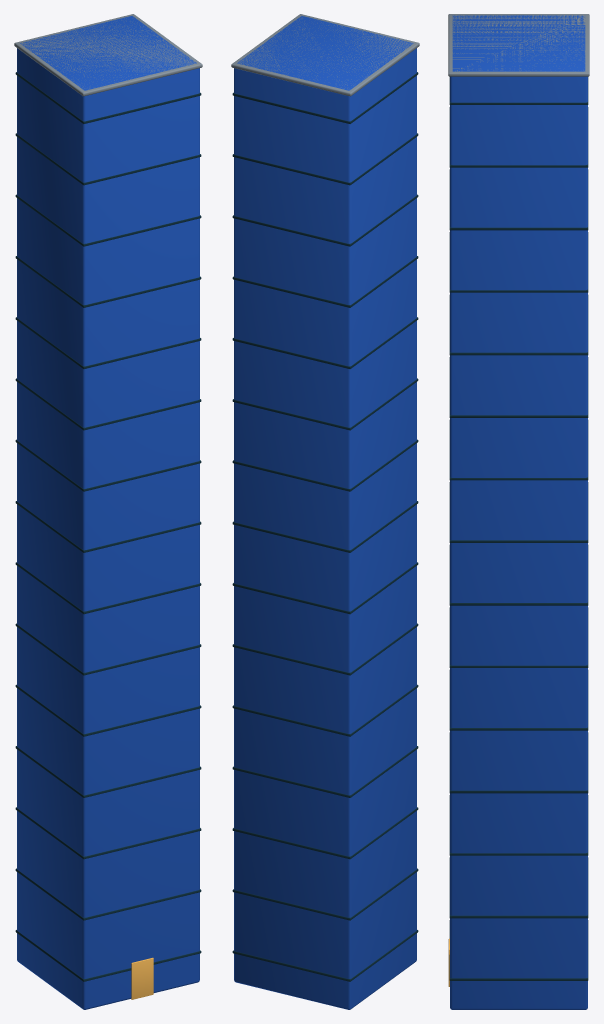
Rendered from s02_tall.glb.
The picture shows the model from 3 angles, left to right: view 1: azimuth 30°, elevation 25°; view 2: azimuth 150°, elevation 25°; view 3: azimuth 270°, elevation 25°; orthographic projection. The views are drawn at different scales.
Parts seen in each view (by area): view 1: s02_tall_Mass, s02_tall_Roof, s02_tall_Door, s02_tall_Band_34, s02_tall_Band_6, s02_tall_Band_22, s02_tall_Band_38, s02_tall_Band_50, s02_tall_Band_18, s02_tall_Band_30, s02_tall_Band_10, s02_tall_Band_42 (+6 smaller); view 2: s02_tall_Mass, s02_tall_Roof, s02_tall_Band_34, s02_tall_Band_6, s02_tall_Band_22, s02_tall_Band_38, s02_tall_Band_50, s02_tall_Band_18, s02_tall_Band_30, s02_tall_Band_10, s02_tall_Band_42, s02_tall_Band_2 (+5 smaller); view 3: s02_tall_Mass, s02_tall_Roof, s02_tall_Band_6, s02_tall_Band_14, s02_tall_Band_50, s02_tall_Band_42, s02_tall_Band_10, s02_tall_Band_18, s02_tall_Band_26, s02_tall_Band_34, s02_tall_Band_46, s02_tall_Band_54 (+5 smaller).
Boxes of the visible parts, x1,y1,x2,y2 form: s02_tall_Mass: [17, 16, 199, 1009]; s02_tall_Roof: [14, 14, 202, 96]; s02_tall_Door: [131, 957, 153, 999]; s02_tall_Band_34: [15, 439, 201, 491]; s02_tall_Band_6: [15, 868, 201, 920]; s02_tall_Band_22: [15, 623, 201, 675]; s02_tall_Band_38: [15, 378, 201, 430]; s02_tall_Band_50: [15, 194, 201, 246]; s02_tall_Band_18: [15, 684, 201, 736]; s02_tall_Band_30: [15, 501, 201, 552]; s02_tall_Band_10: [15, 807, 201, 859]; s02_tall_Band_42: [15, 317, 201, 368]; s02_tall_Mass: [234, 16, 416, 1009]; s02_tall_Roof: [231, 14, 419, 96]; s02_tall_Band_34: [232, 439, 418, 491]; s02_tall_Band_6: [232, 868, 418, 920]; s02_tall_Band_22: [232, 623, 418, 675]; s02_tall_Band_38: [232, 378, 418, 430]; s02_tall_Band_50: [232, 194, 418, 246]; s02_tall_Band_18: [232, 684, 418, 736]; s02_tall_Band_30: [232, 501, 418, 552]; s02_tall_Band_10: [232, 807, 418, 859]; s02_tall_Band_42: [232, 317, 418, 368]; s02_tall_Band_2: [232, 930, 418, 981]; s02_tall_Mass: [450, 15, 587, 1009]; s02_tall_Roof: [448, 14, 589, 76]; s02_tall_Band_6: [449, 857, 588, 918]; s02_tall_Band_14: [449, 732, 588, 793]; s02_tall_Band_50: [449, 169, 588, 230]; s02_tall_Band_42: [449, 295, 588, 355]; s02_tall_Band_10: [449, 795, 588, 855]; s02_tall_Band_18: [449, 670, 588, 730]; s02_tall_Band_26: [449, 545, 588, 605]; s02_tall_Band_34: [449, 420, 588, 480]; s02_tall_Band_46: [449, 232, 588, 292]; s02_tall_Band_54: [449, 107, 588, 167].
Size of the model in its own units: 8.2 by 60 by 8.2.
